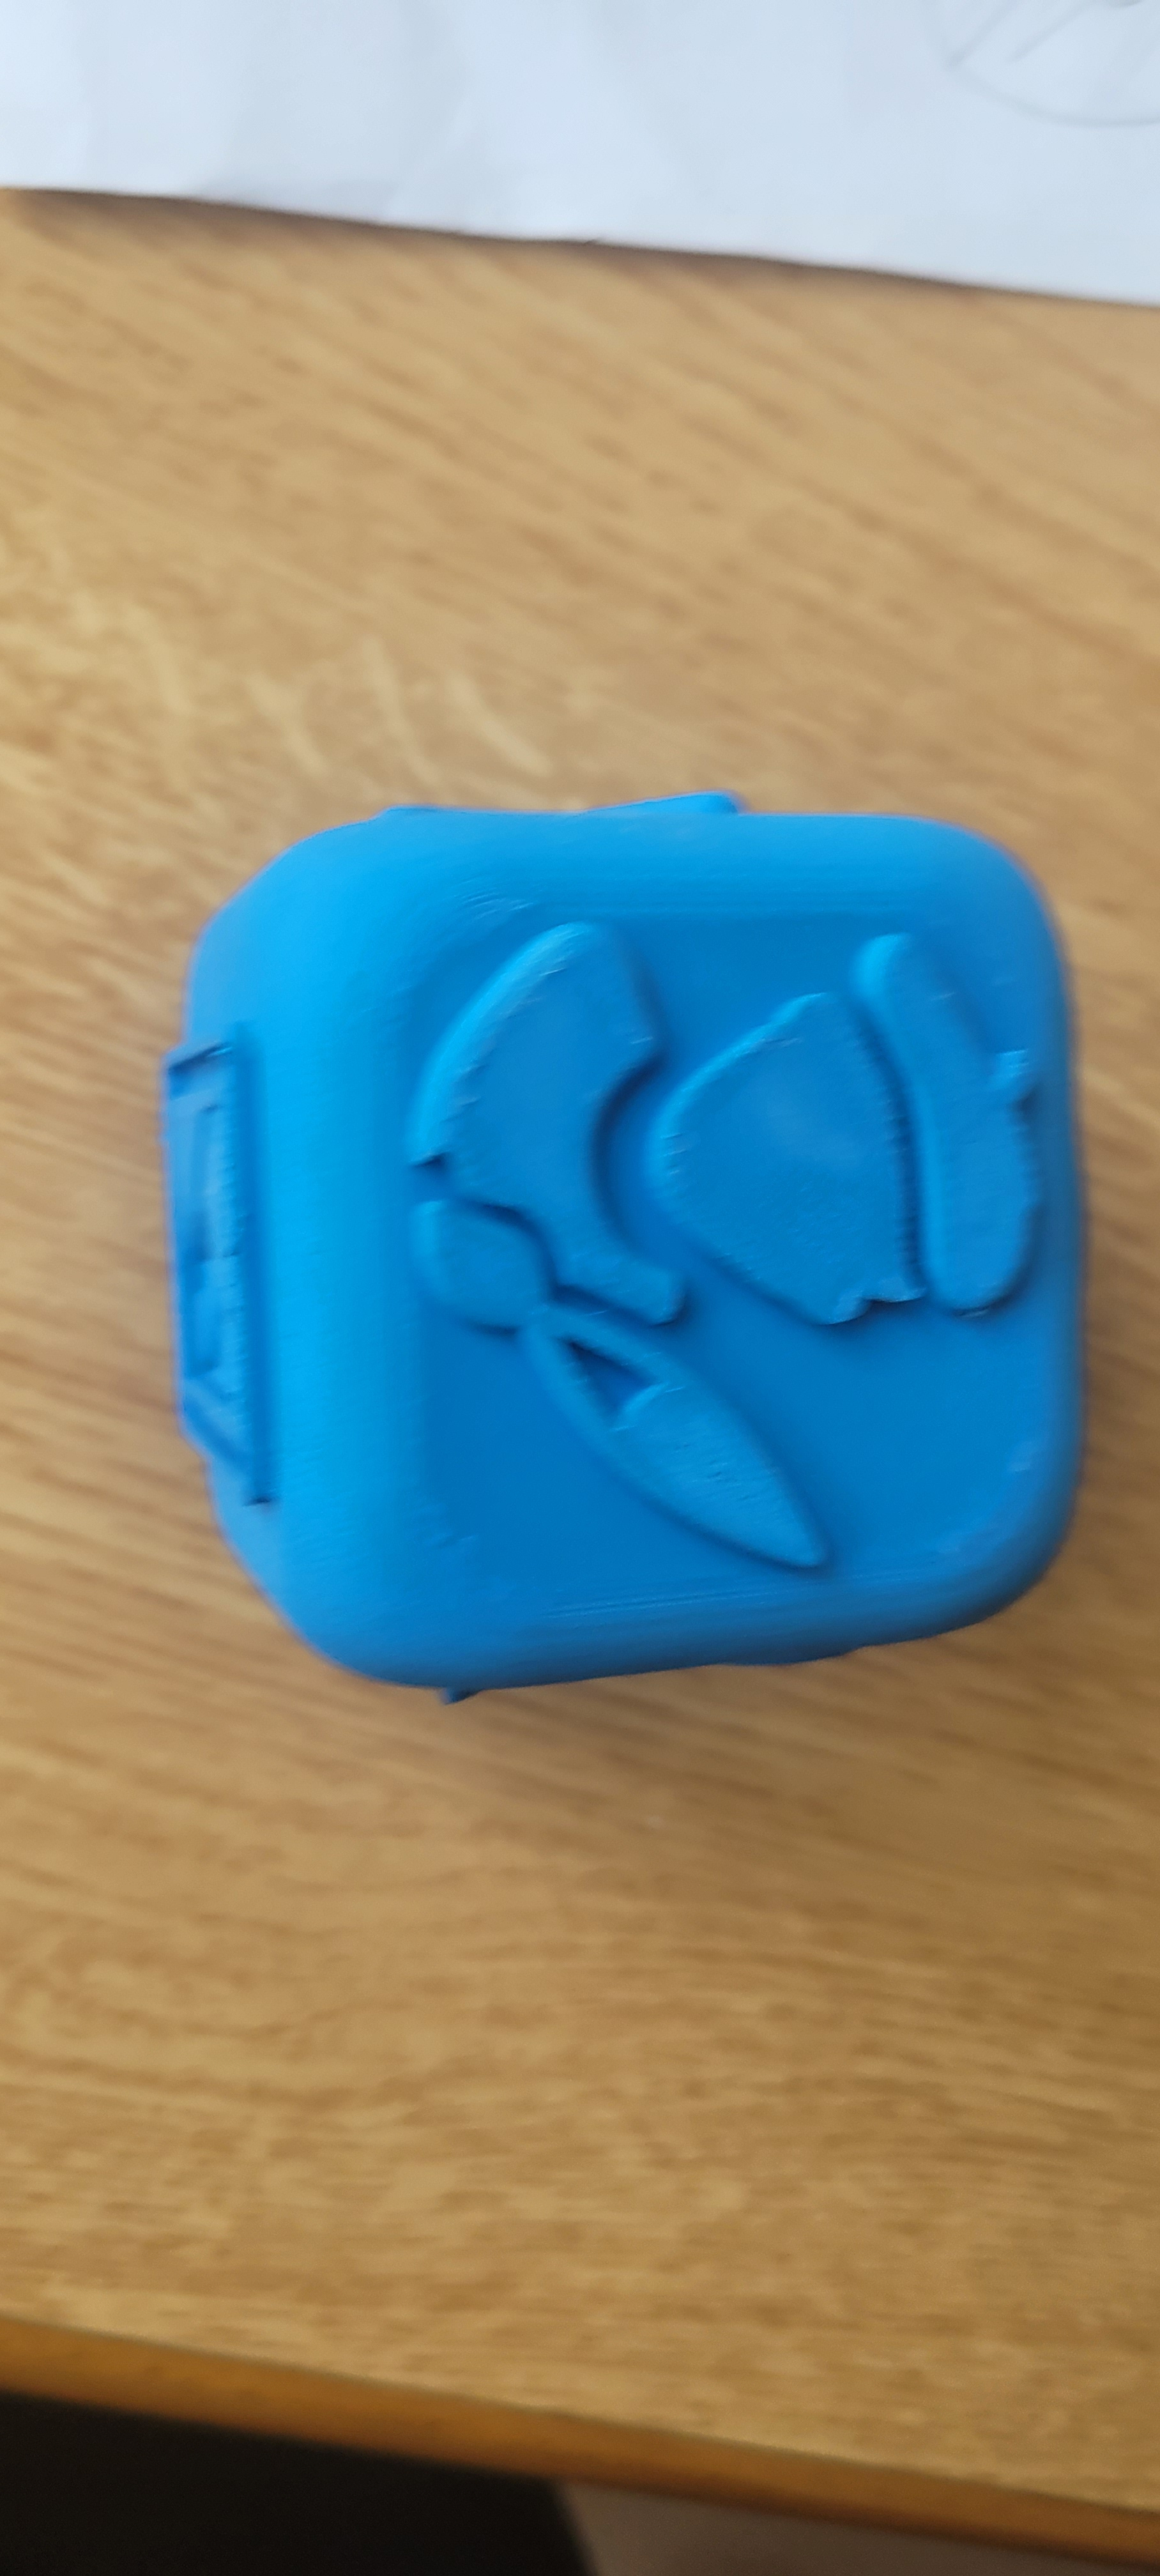Artist_Info: (248, 751, 1122, 1672)
